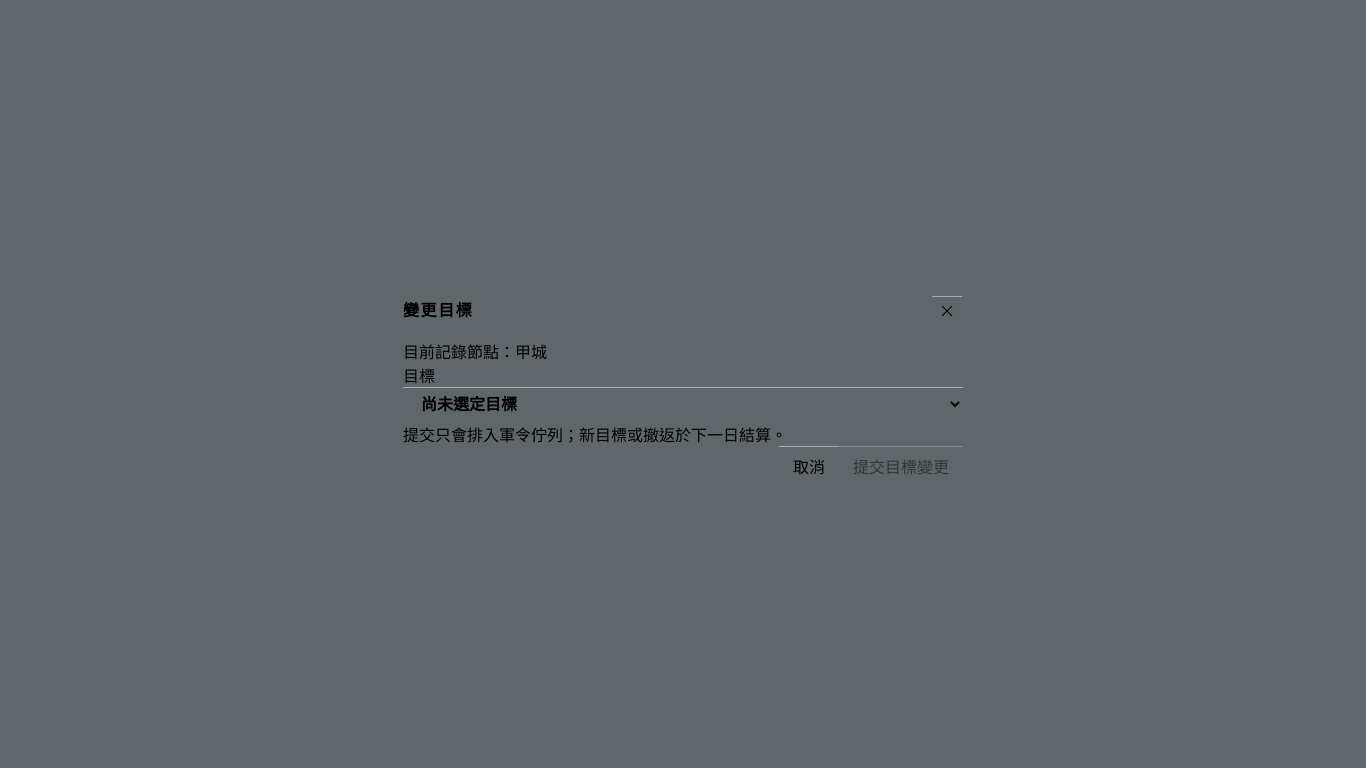
Test case: ArmyTargetModal › truthfully labels an entered physical leg (reversing=false)
Step 1. Select "乙城" in the dropdown with test id "army-target-select" → (683, 404), box [403,386,963,422]
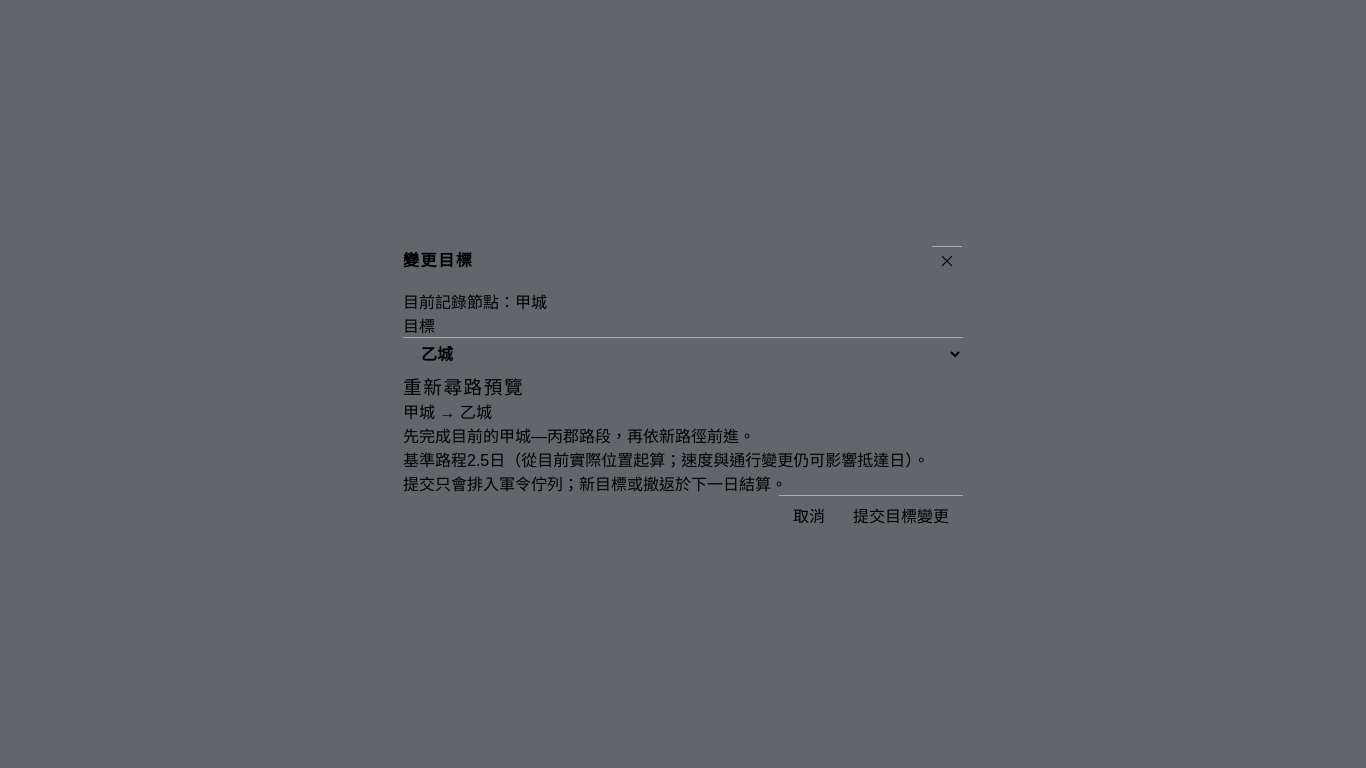
Expected: the element with test id "army-target-preview" shows "先完成目前的甲城—丙郡路段，再依新路徑前進。", [403,428,755,445]
Expected: the element with test id "army-target-preview" shows "速度與通行變更仍可影響抵達日", [403,452,929,469]
